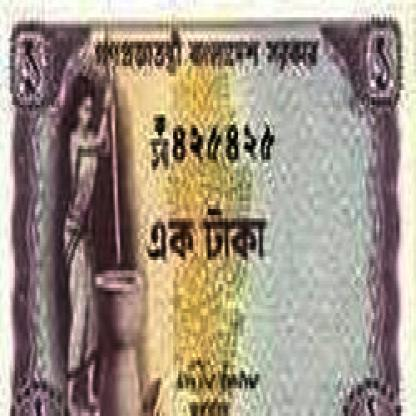One Taka: (145, 201, 268, 270), (15, 35, 43, 108), (369, 31, 398, 97)
